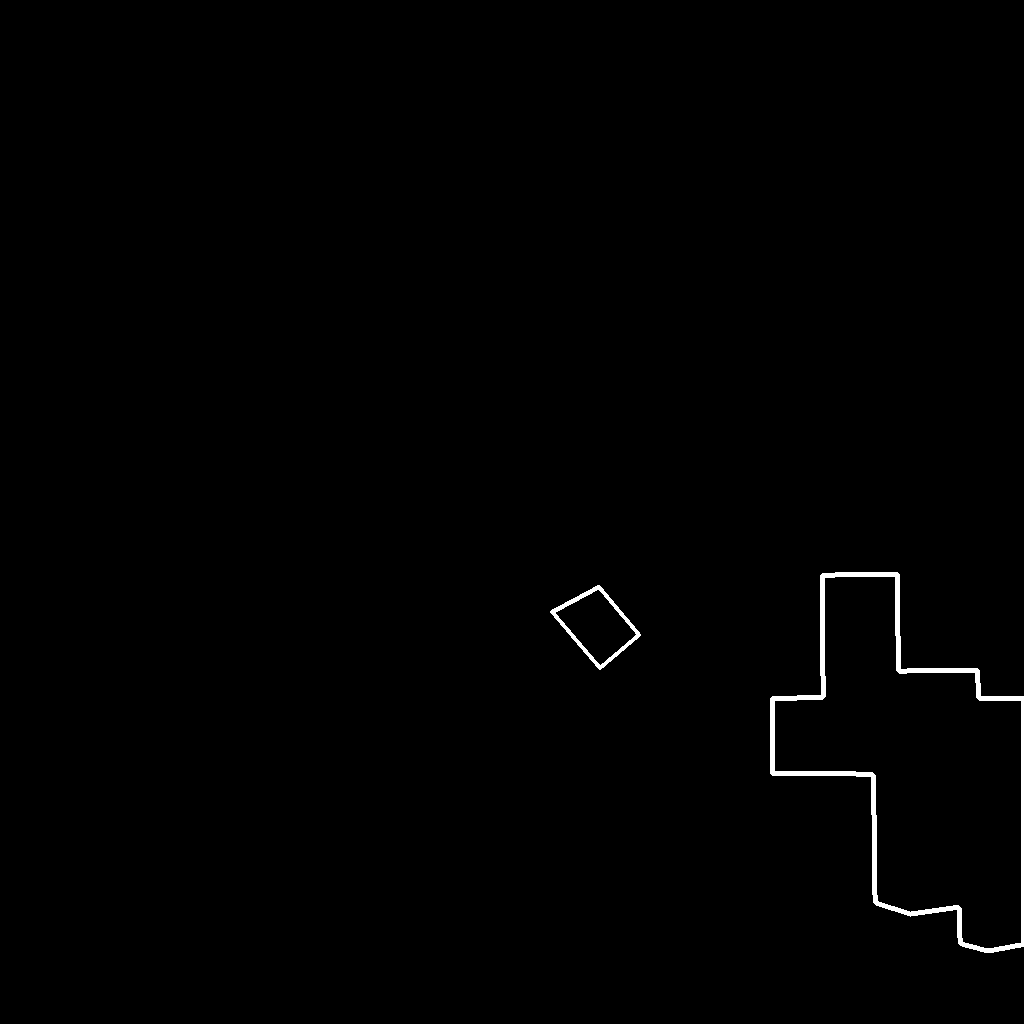building: (772, 574, 1024, 952), (552, 587, 640, 669)
